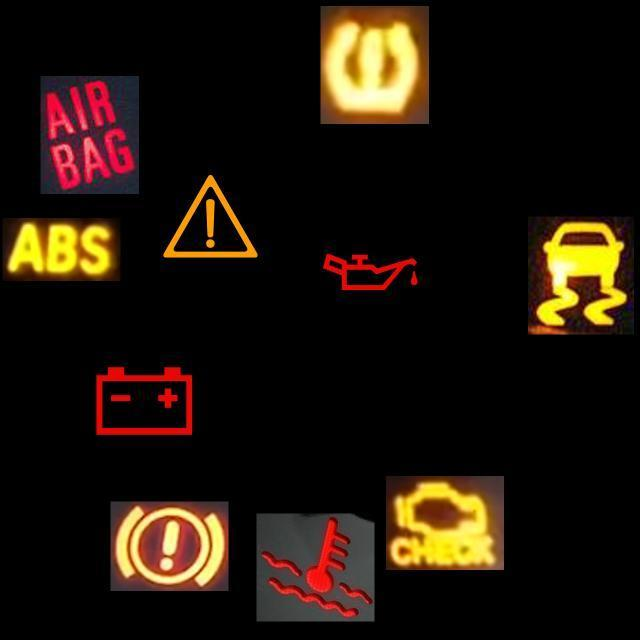Central Warning lamp: (152, 157, 270, 276)
Engine cooling system: (256, 514, 374, 622)
